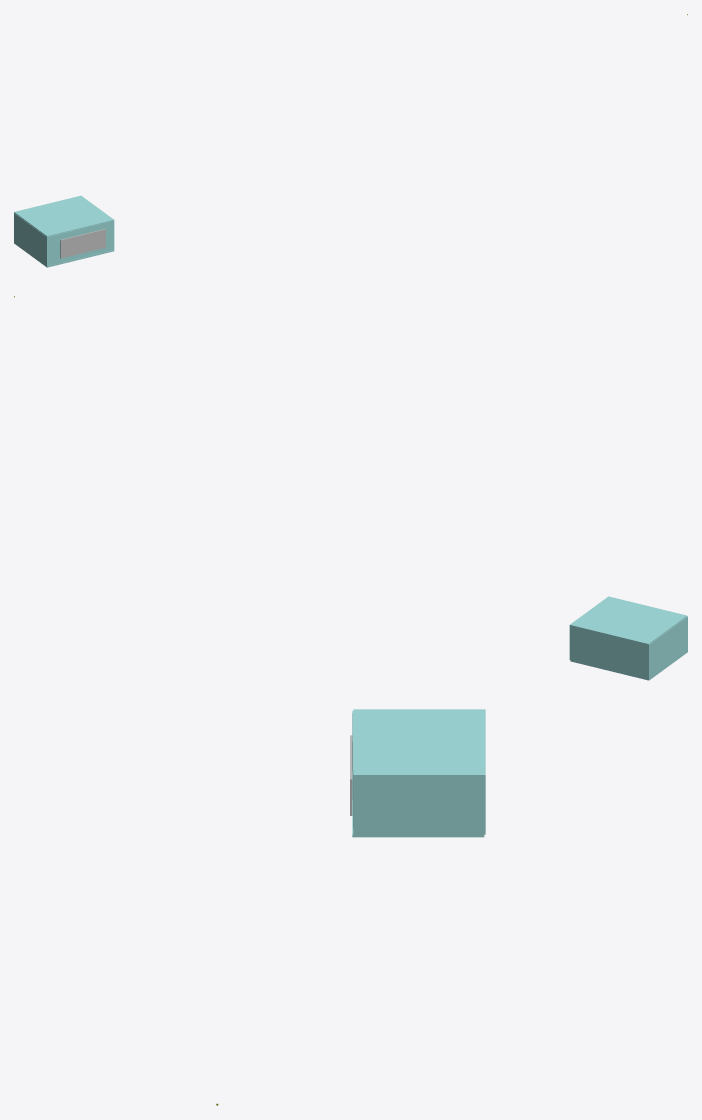
The model's file is lib0.3.obj.
The picture shows the model from 3 angles, top to bottom: view 1: azimuth 30°, elevation 25°; view 2: azimuth 150°, elevation 25°; view 3: azimuth 270°, elevation 25°; orthographic projection. The views are drawn at different scales.
Visible parts, largest first — view 1: Box010, Wall001, Box016; view 2: Wall001, Box010; view 3: Box010, Wall001, Box001.
Boxes of the visible parts, x1=… form: Box010: x1=14, y1=195, x2=114, y2=236; Wall001: x1=14, y1=213, x2=114, y2=265; Box016: x1=60, y1=229, x2=105, y2=258; Wall001: x1=569, y1=616, x2=687, y2=678; Box010: x1=569, y1=596, x2=687, y2=644; Box010: x1=353, y1=709, x2=485, y2=776; Wall001: x1=352, y1=711, x2=485, y2=834; Box001: x1=352, y1=771, x2=484, y2=837.
Size of the model in its own units: 20719 by 4235 by 3978.
